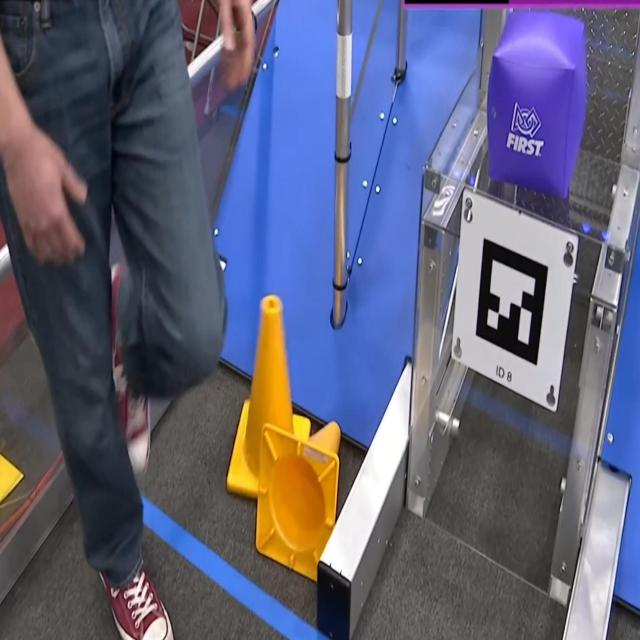frc_cone: (225, 295, 309, 501), (256, 415, 340, 575)
frc_cube: (490, 8, 586, 200)
